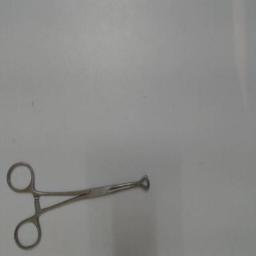Babcock Tissue Forceps: (4, 158, 152, 254)
